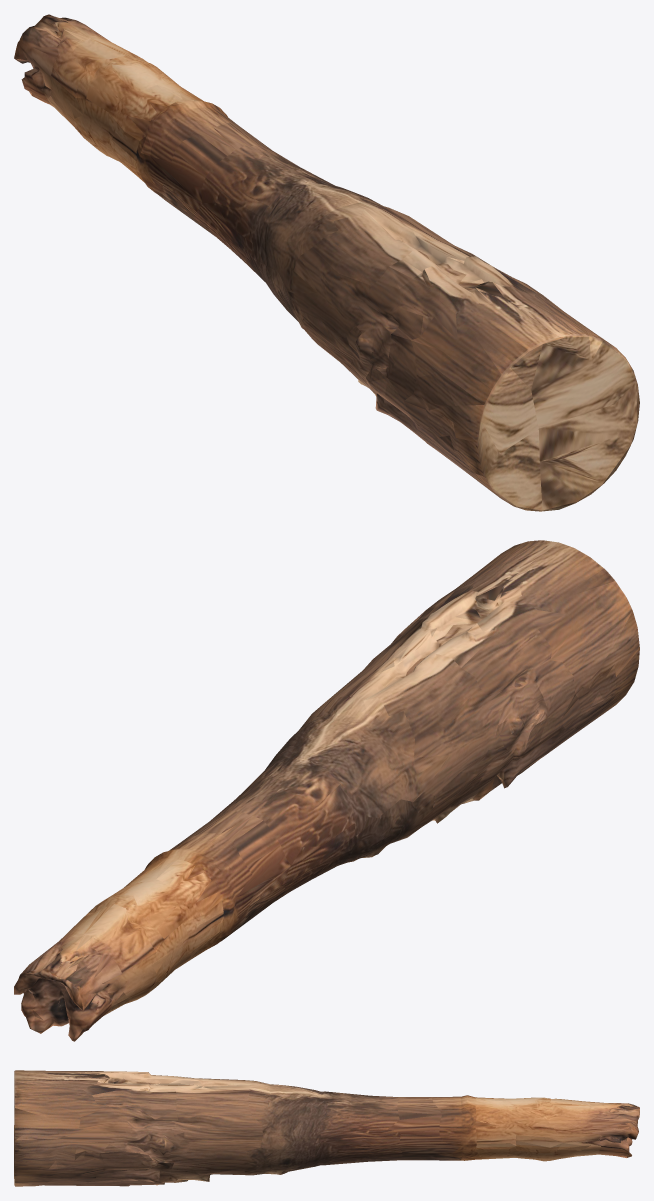
Rendered from club0.glb.
3 views of the same model, one above another, from view 1: azimuth 30°, elevation 25°; view 2: azimuth 150°, elevation 25°; view 3: azimuth 270°, elevation 25° (orthographic). The views are drawn at different scales.
Parts seen in each view (by area): view 1: tripo_node_91f07525; view 2: tripo_node_91f07525; view 3: tripo_node_91f07525.
Part boxes in pixels (x1,y1,x2,y2): tripo_node_91f07525: (14, 14, 639, 511); tripo_node_91f07525: (14, 540, 639, 1041); tripo_node_91f07525: (14, 1070, 639, 1186).
Bounding box in the file's own units: 0.1491 × 0.1503 × 0.8065.
1 material, 1 textured.
